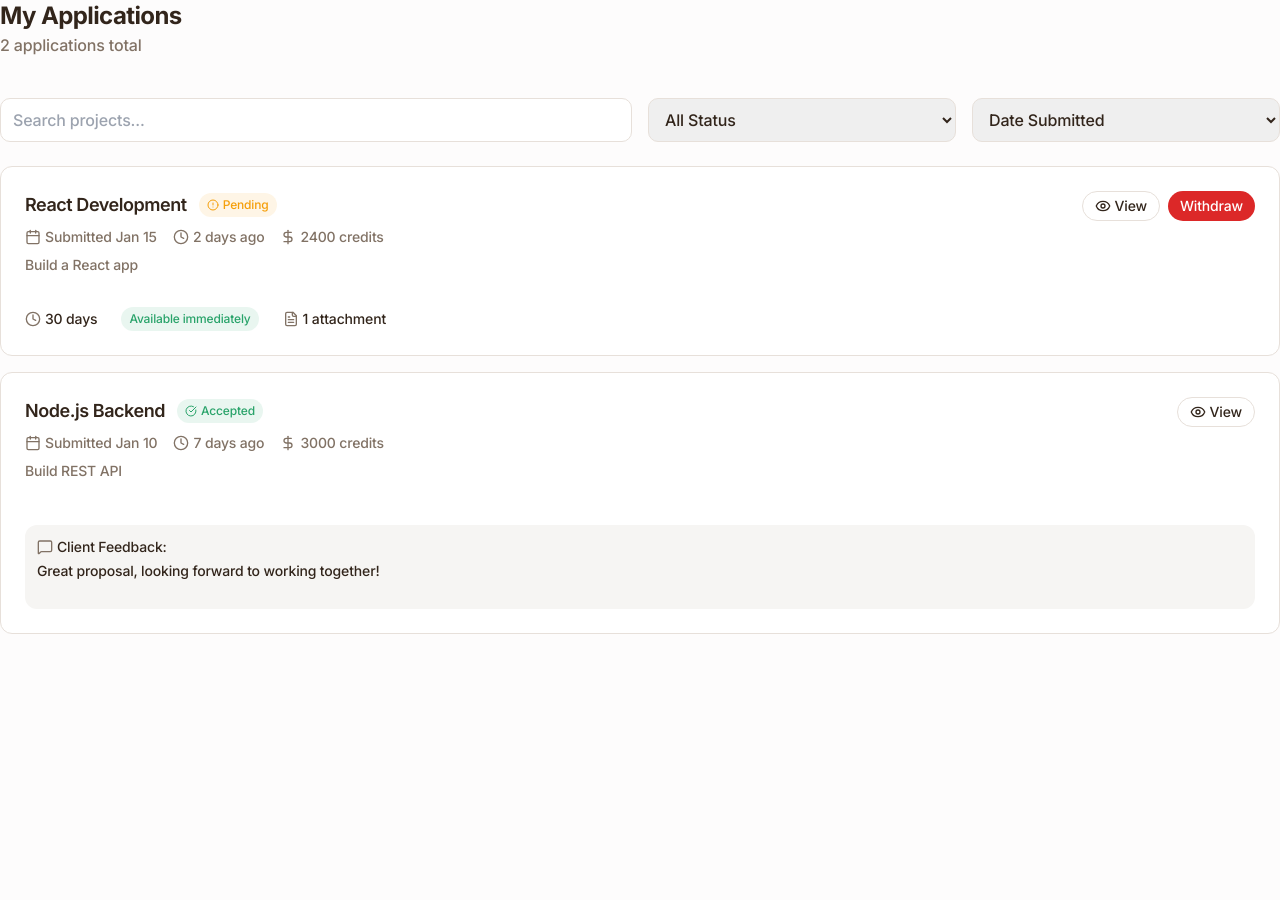
it: ApplicationsView › Withdraw Dialog › opens withdraw dialog when Withdraw is clicked
Click the button "Withdraw": (1211, 206) [1168,191,1255,221]
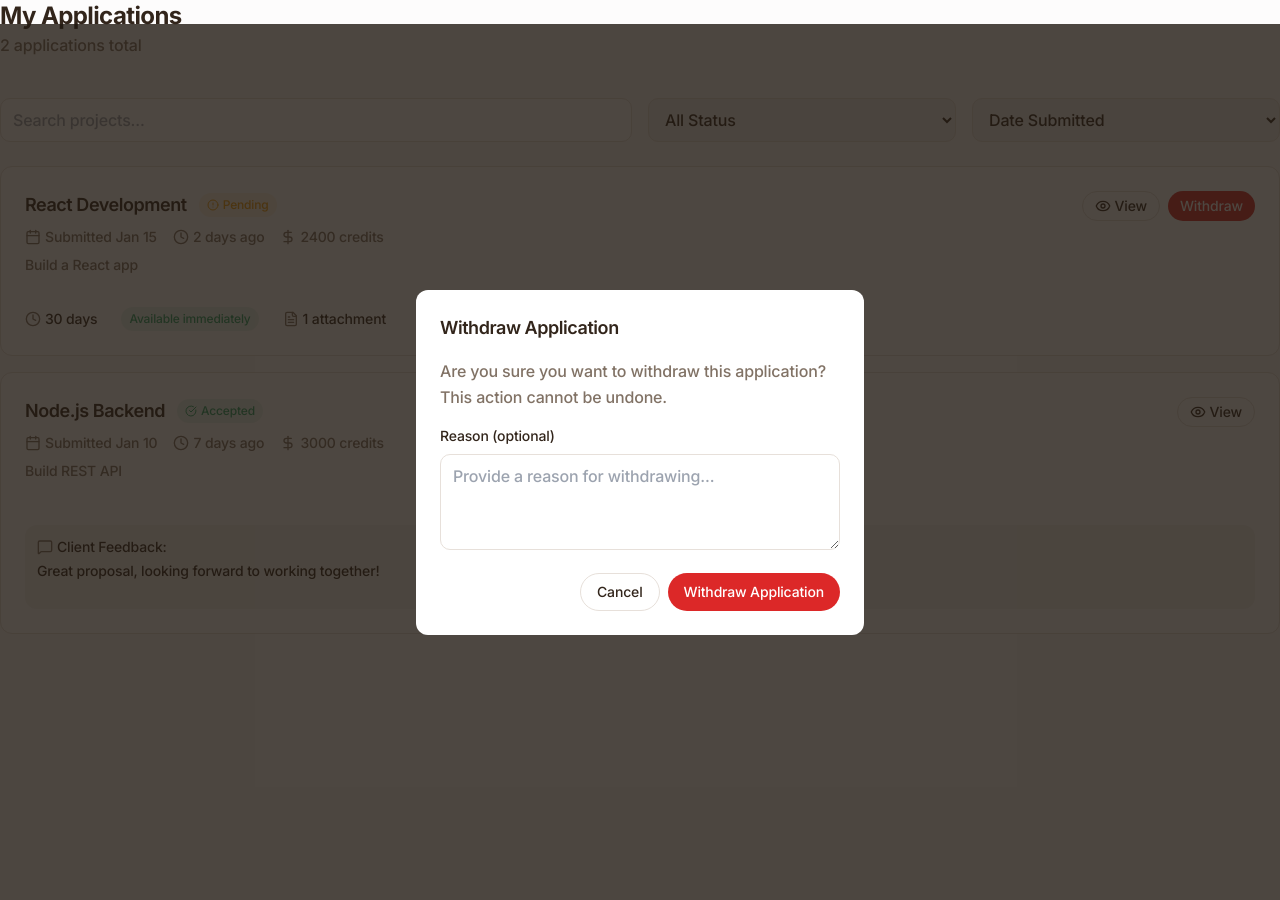
Result: the text "Are you sure you want to withdraw this application? This action cannot be undone." is shown at [440,360,826,406]
Result: the text box labelled "Reason (optional)" is shown at [440,454,840,550]
